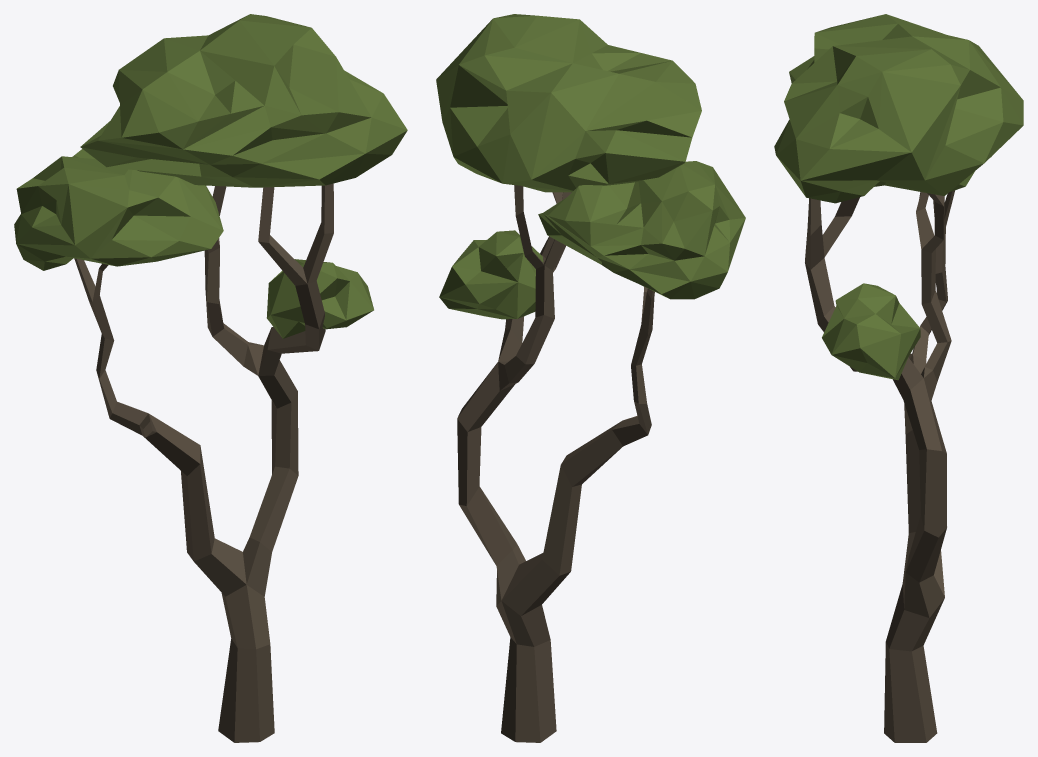
File: tree_2.glb
3 renders of one model, left to right at view 1: azimuth 30°, elevation 25°; view 2: azimuth 150°, elevation 25°; view 3: azimuth 270°, elevation 25°, orthographic. The views are drawn at different scales.
Visible parts, largest first — view 1: SM_Env_Tree_02; view 2: SM_Env_Tree_02; view 3: SM_Env_Tree_02.
Part boxes in pixels (x1,y1,x2,y2): SM_Env_Tree_02: [14, 14, 407, 742]; SM_Env_Tree_02: [436, 14, 745, 742]; SM_Env_Tree_02: [774, 14, 1023, 742].
Size of the model in its own units: 2.24 by 4.68 by 1.54.
1 material, 1 textured.
